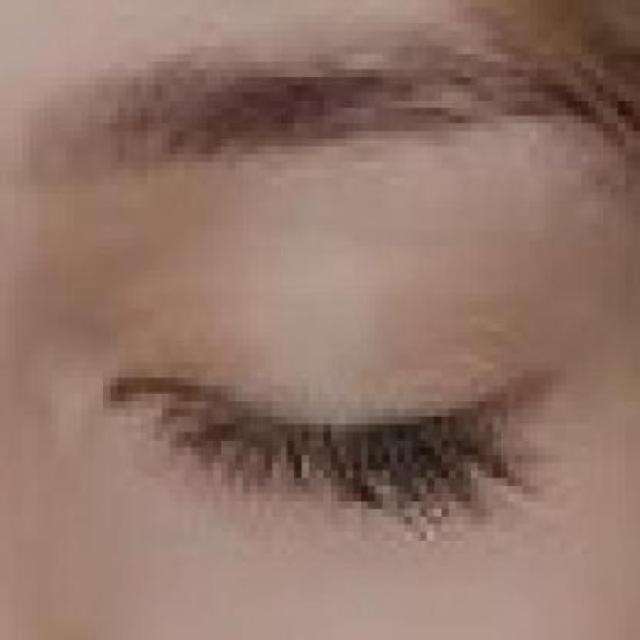drowsy: (100, 328, 558, 582)
